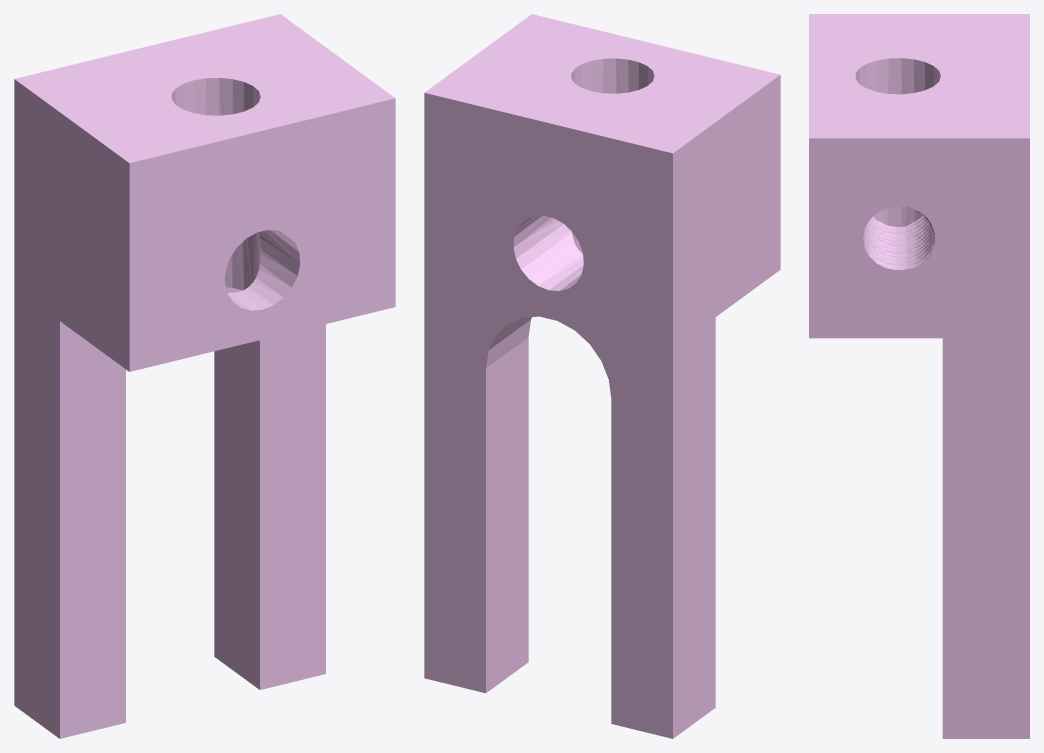
File: roller_fork.glb
3 renders of one model, left to right at view 1: azimuth 30°, elevation 25°; view 2: azimuth 150°, elevation 25°; view 3: azimuth 270°, elevation 25°, orthographic. The views are drawn at different scales.
Parts seen in each view (by area): view 1: Node1; view 2: Node1; view 3: Node1.
Part boxes in pixels (x1=…): Node1: x1=14, y1=14, x2=395, y2=738; Node1: x1=424, y1=14, x2=780, y2=738; Node1: x1=809, y1=14, x2=1029, y2=738.
Size of the model in its own units: 6.35 by 14.29 by 4.76.
